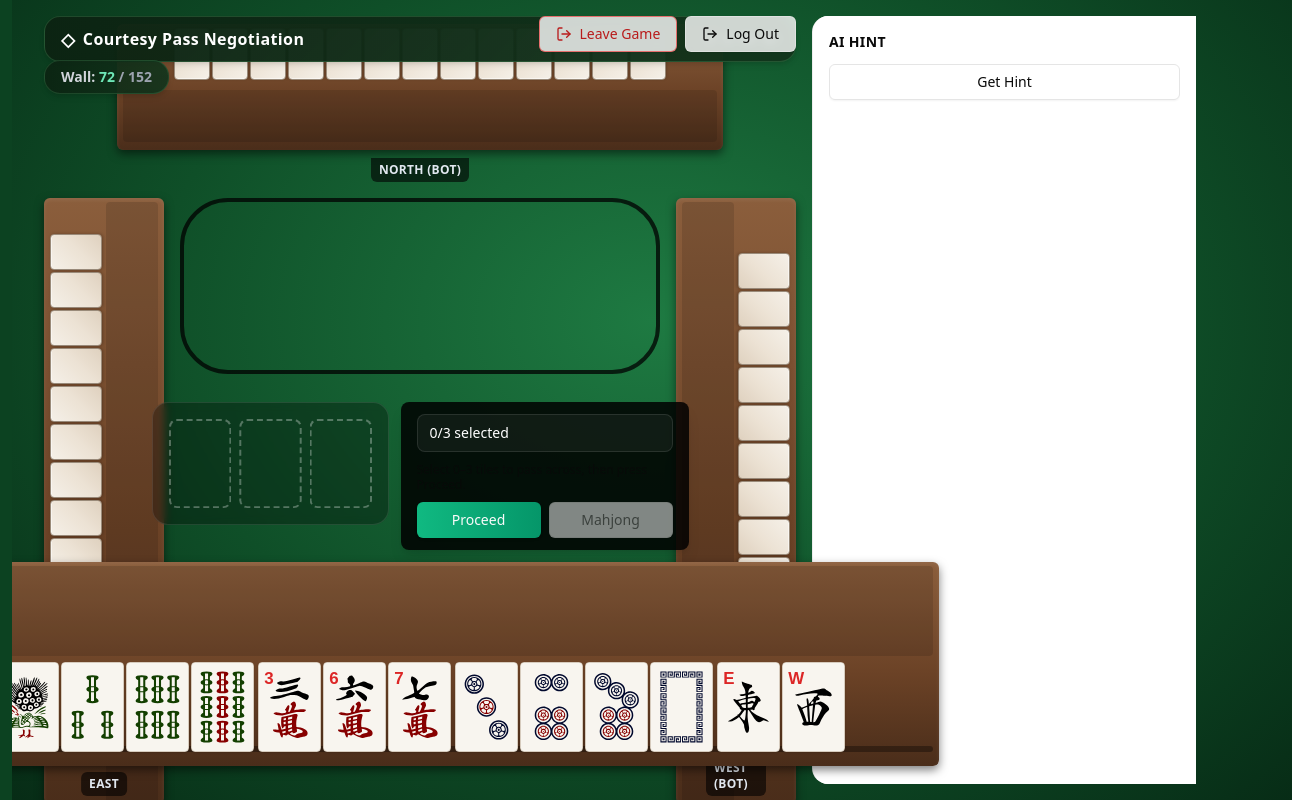
Test: US-051: Charleston Courtesy Pass Action Pane › keeps the two-button model after agreement and enables proceed for the agreed tile count
Click the button named "3 Bam" at [92, 707], box top-left (60, 662), bottom-right (124, 752)
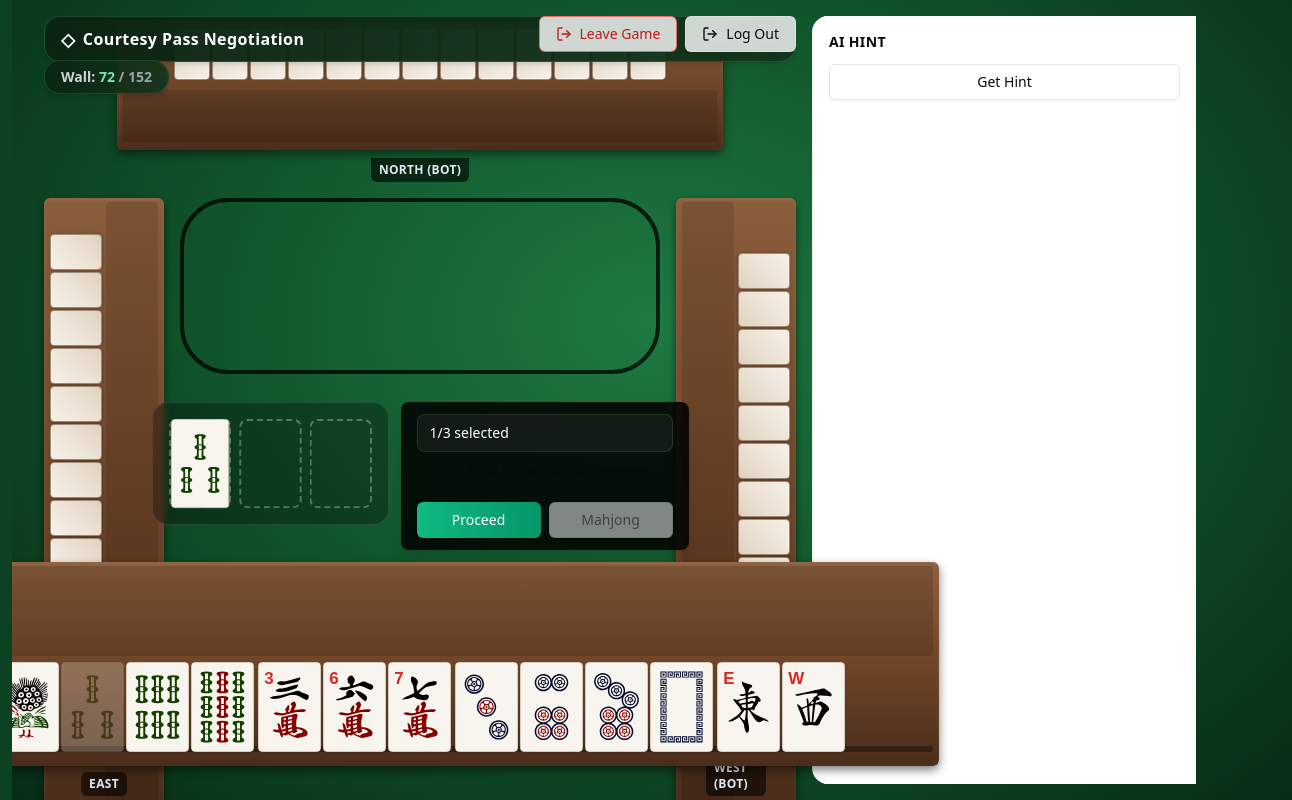
Click the button named "6 Bam" at [157, 707], box top-left (126, 662), bottom-right (188, 752)
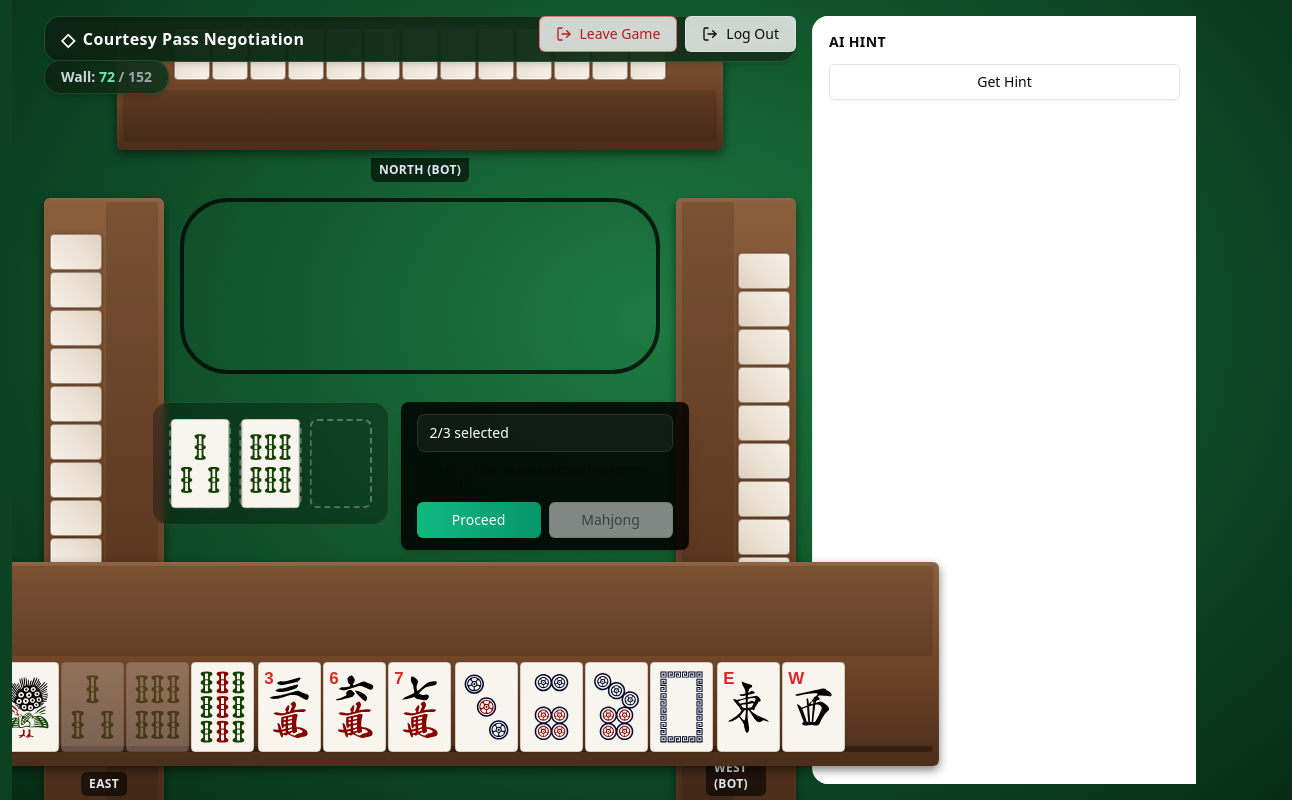
Click the button with test id "proceed-button" at [478, 520], box top-left (416, 502), bottom-right (540, 538)
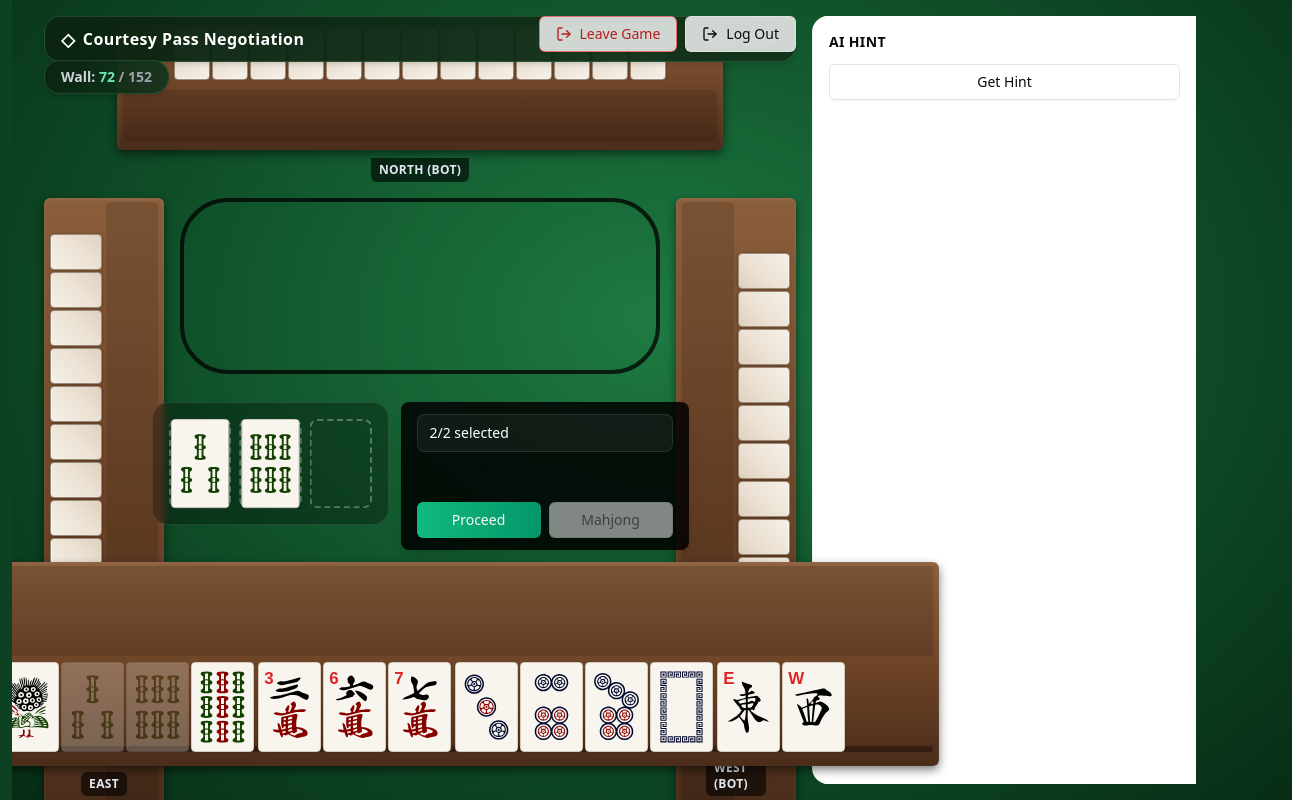
Expected: the button with test id "declare-mahjong-button" is shown, top-left (548, 502), bottom-right (672, 538)
Expected: the text with test id "selection-counter" shows "2/2", top-left (430, 423), bottom-right (509, 442)
